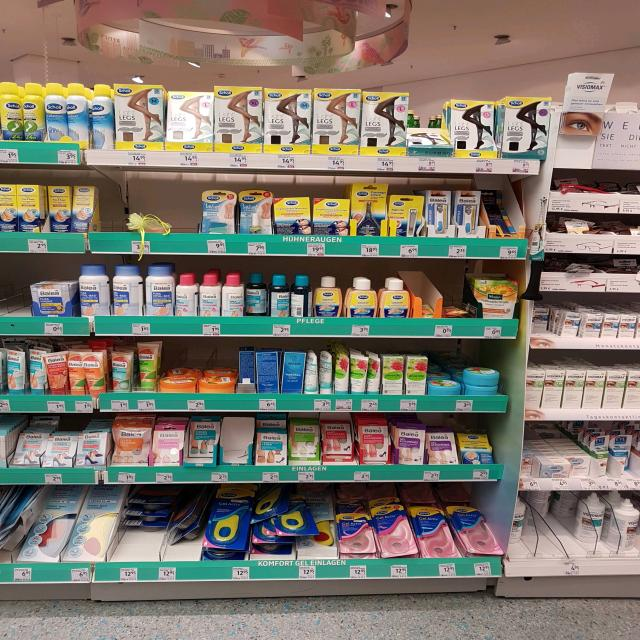void: (95, 173, 141, 261), (146, 171, 190, 259), (222, 410, 252, 482), (0, 264, 27, 336)
